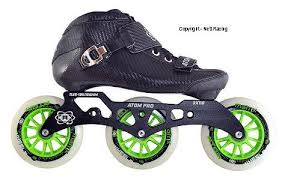roller_blade: (12, 9, 275, 172)
